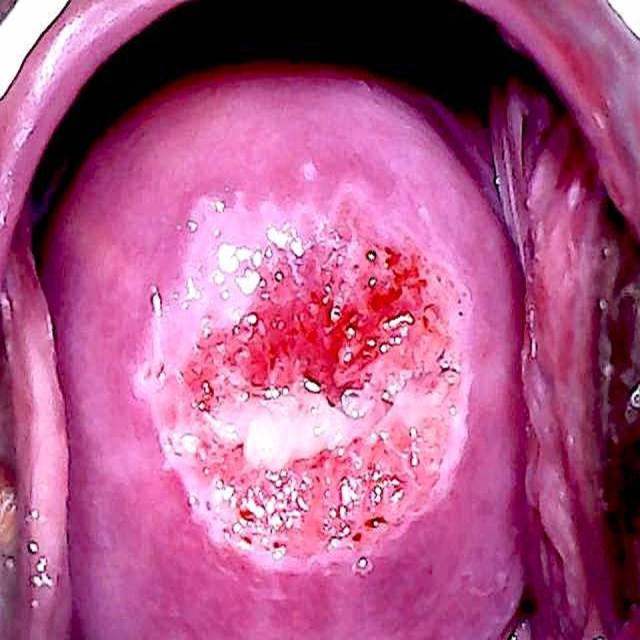cervical_lesion: (128, 188, 480, 588)
